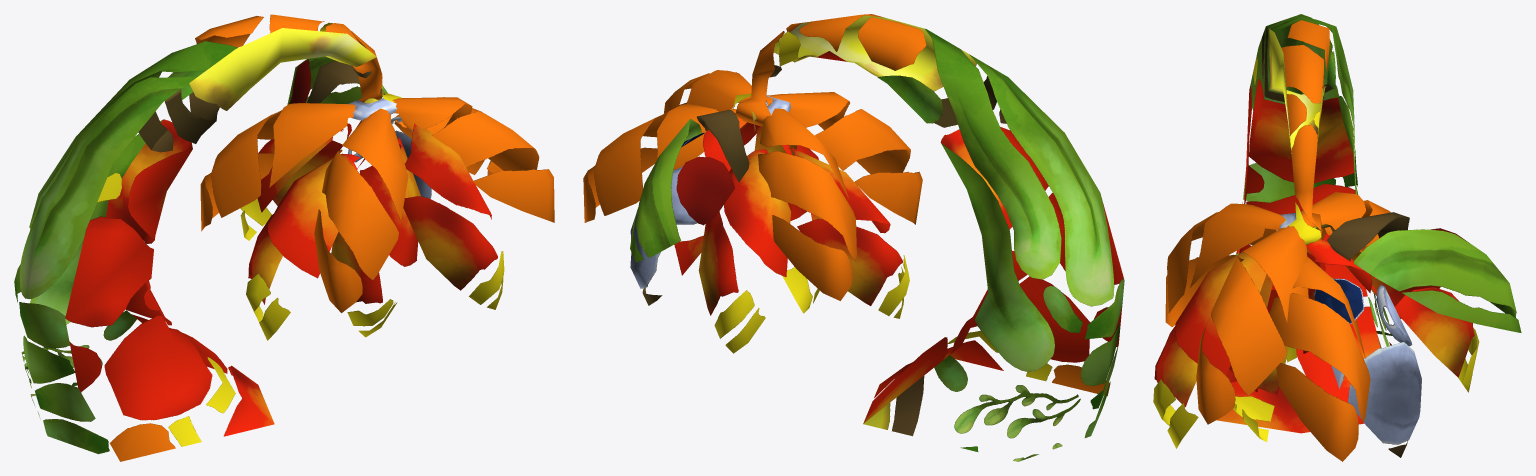
File: LOD1_bananier_pollue.fbx
3 renders of one model, left to right at view 1: azimuth 30°, elevation 25°; view 2: azimuth 150°, elevation 25°; view 3: azimuth 270°, elevation 25°, orthographic. The views are drawn at different scales.
Parts seen in each view (by area): view 1: bananier_pollue_LOD1; view 2: bananier_pollue_LOD1; view 3: bananier_pollue_LOD1.
Boxes of the visible parts, x1,y1,x2,y2 form: bananier_pollue_LOD1: [14, 14, 554, 461]; bananier_pollue_LOD1: [583, 14, 1124, 461]; bananier_pollue_LOD1: [1153, 14, 1521, 461].
Bounding box in the file's own units: 433 × 297 × 250.
